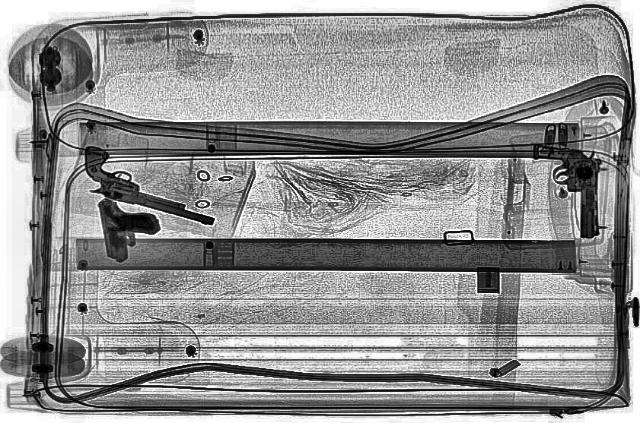Gun: (58, 143, 242, 225), (528, 140, 602, 238), (90, 194, 162, 264)
